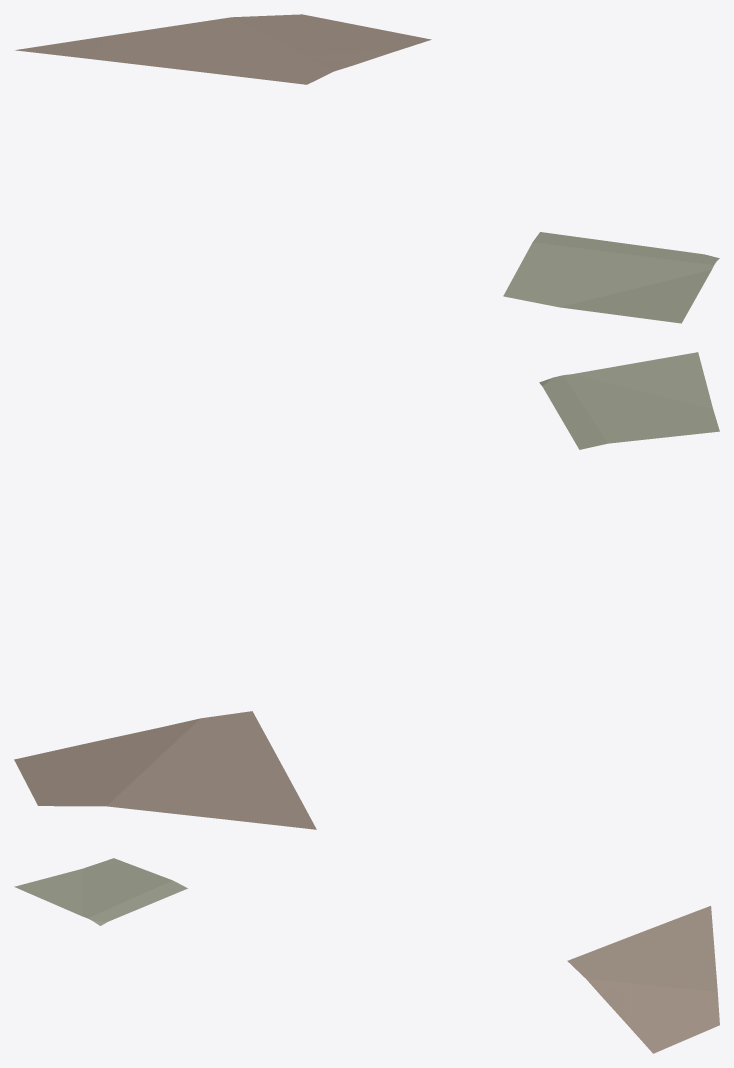
Rendered from farm_-22_-28_soil.glb.
3 views of the same model, one above another, from view 1: azimuth 30°, elevation 25°; view 2: azimuth 150°, elevation 25°; view 3: azimuth 270°, elevation 25° (orthographic). The views are drawn at different scales.
Parts seen in each view (by area): view 1: geometry_0; view 2: geometry_0; view 3: geometry_0.
Part boxes in pixels (x1,y1,x2,y2): geometry_0: (15, 14, 719, 323); geometry_0: (14, 352, 719, 829); geometry_0: (14, 858, 719, 1053).
Bounding box in the file's own units: 123 × 43.71 × 312.
